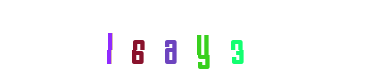3: (191, 0, 271, 80)
6: (109, 0, 189, 80)
A: (142, 0, 222, 80)
L: (97, 0, 177, 80)
Y: (162, 0, 242, 80)
